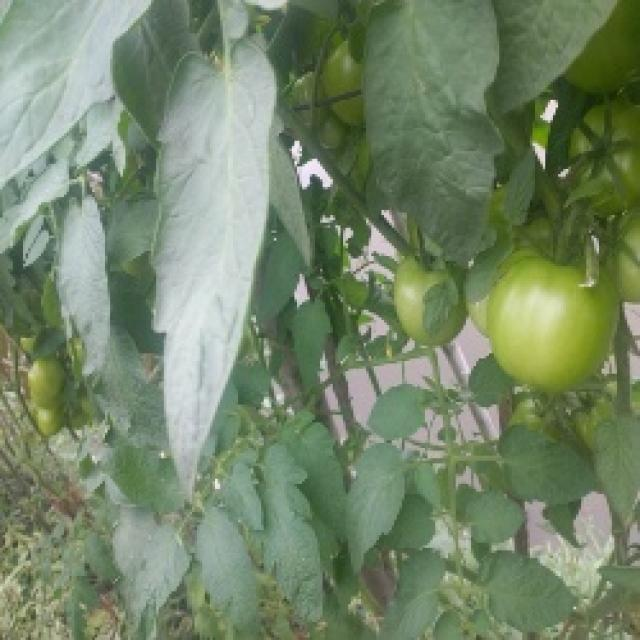tomato: (492, 249, 620, 393), (576, 94, 640, 214), (286, 68, 362, 160), (320, 39, 375, 129), (607, 205, 640, 303), (392, 256, 427, 324), (28, 345, 67, 400), (30, 394, 64, 441)
